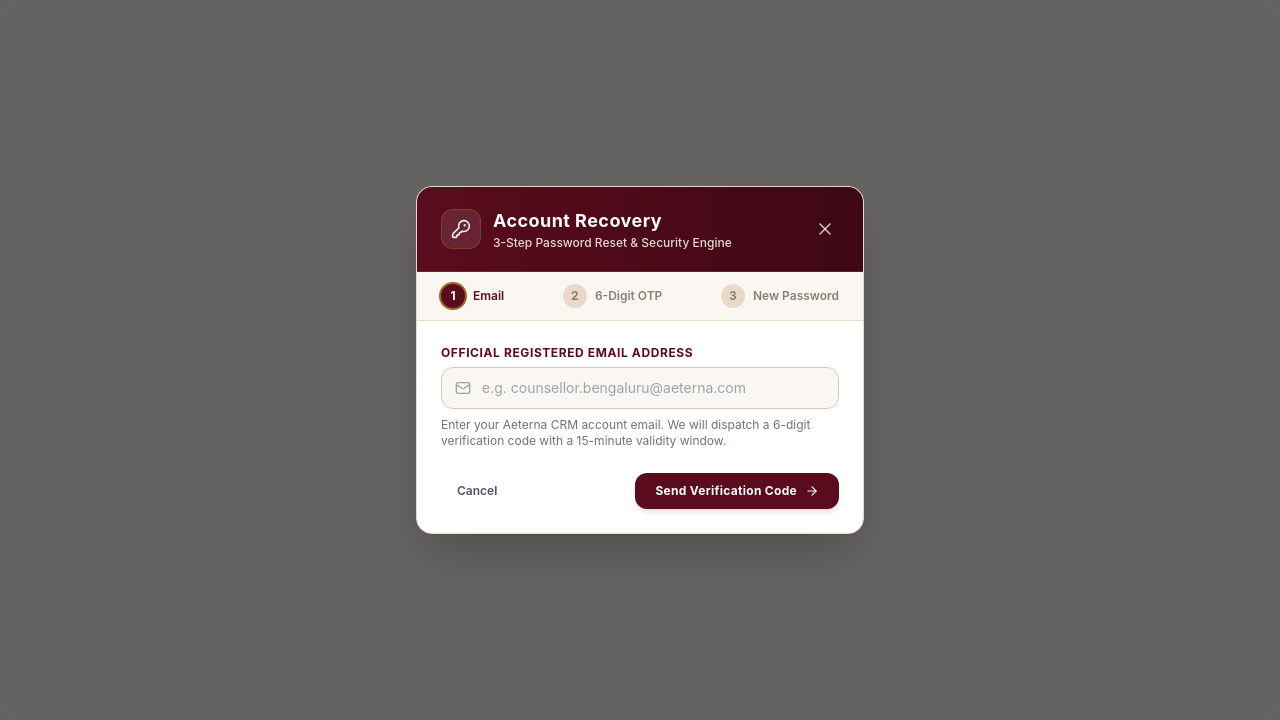
ForgotPasswordModal Component Suite › displays error message when email is invalid or API fails
In the field with placeholder "e.g. counsellor.bengaluru@aeterna.com": (640,388) [441, 367, 839, 409], type "notfound@aeterna.com"
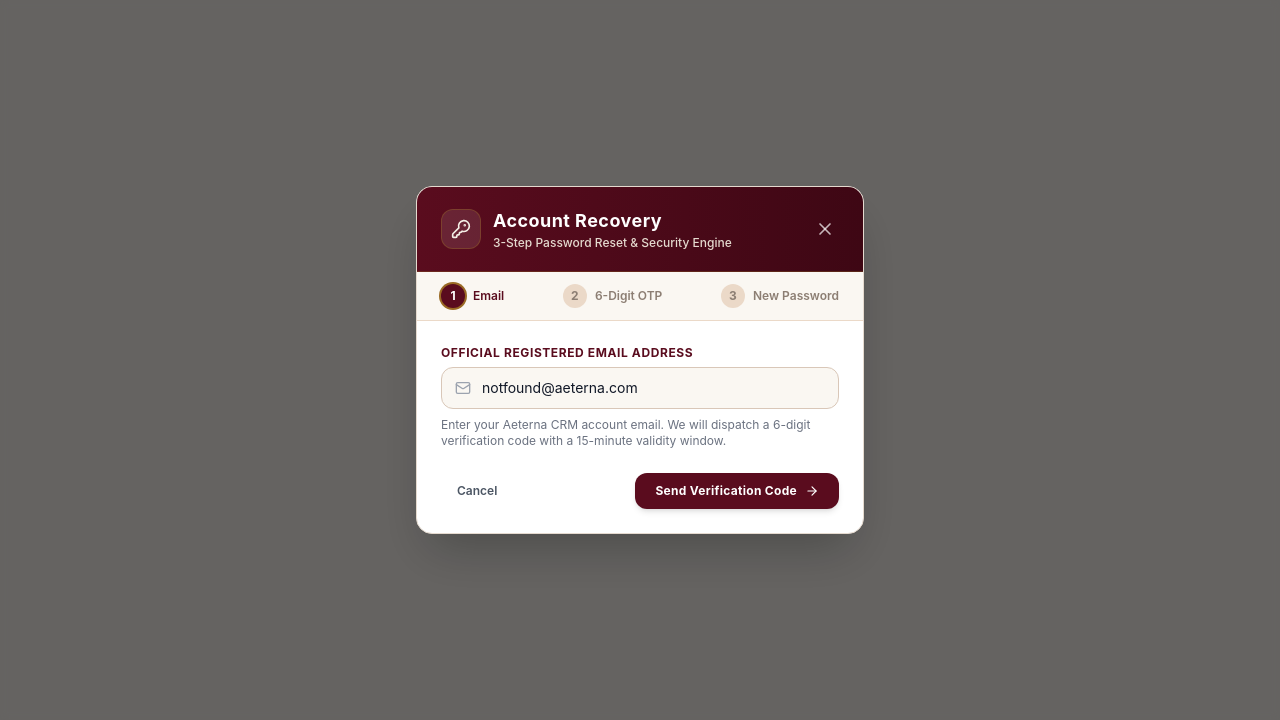
Click the button "Send Verification Code": (737,491) [635, 473, 839, 509]
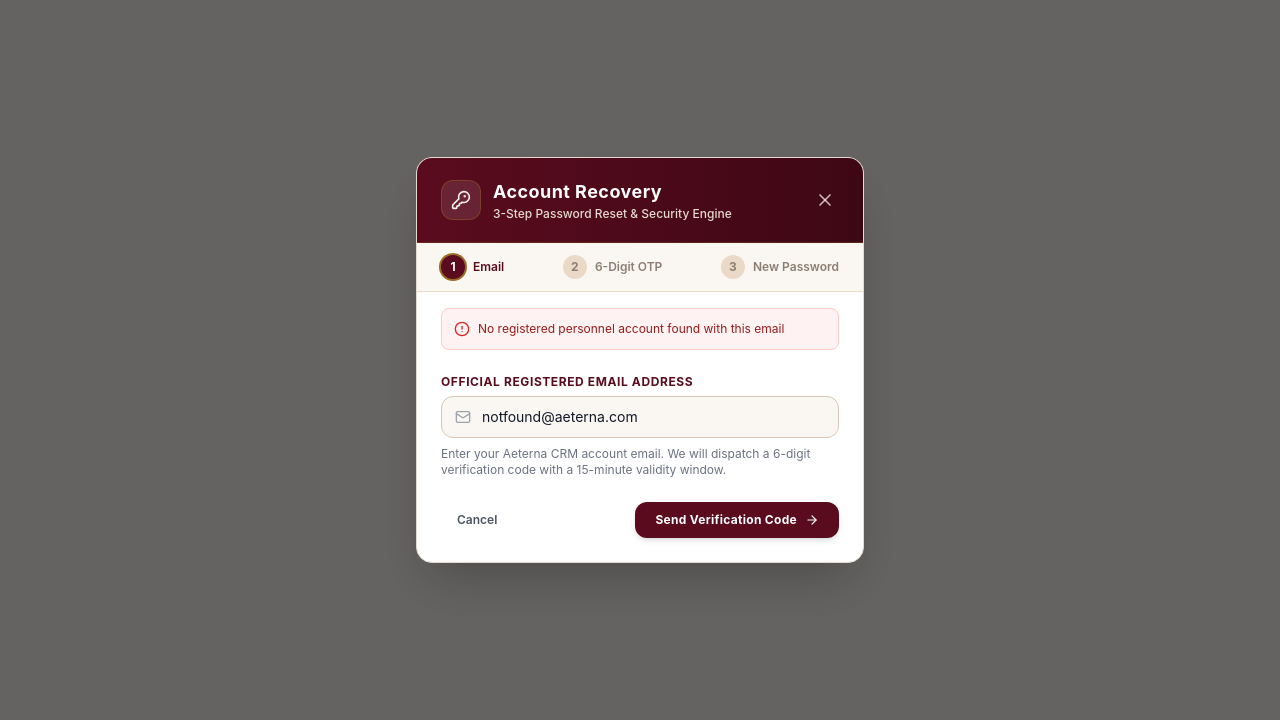
Now the text "No registered personnel account found with this email" is shown, box [478, 321, 784, 337]
